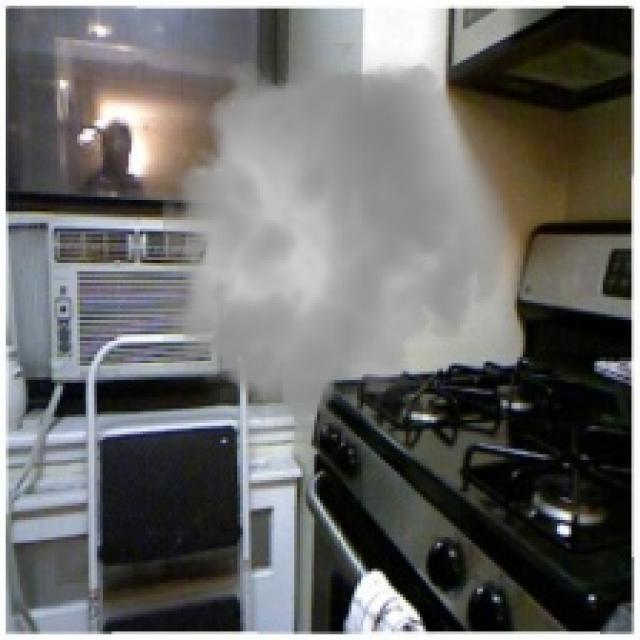Smoke: (145, 43, 520, 440)
